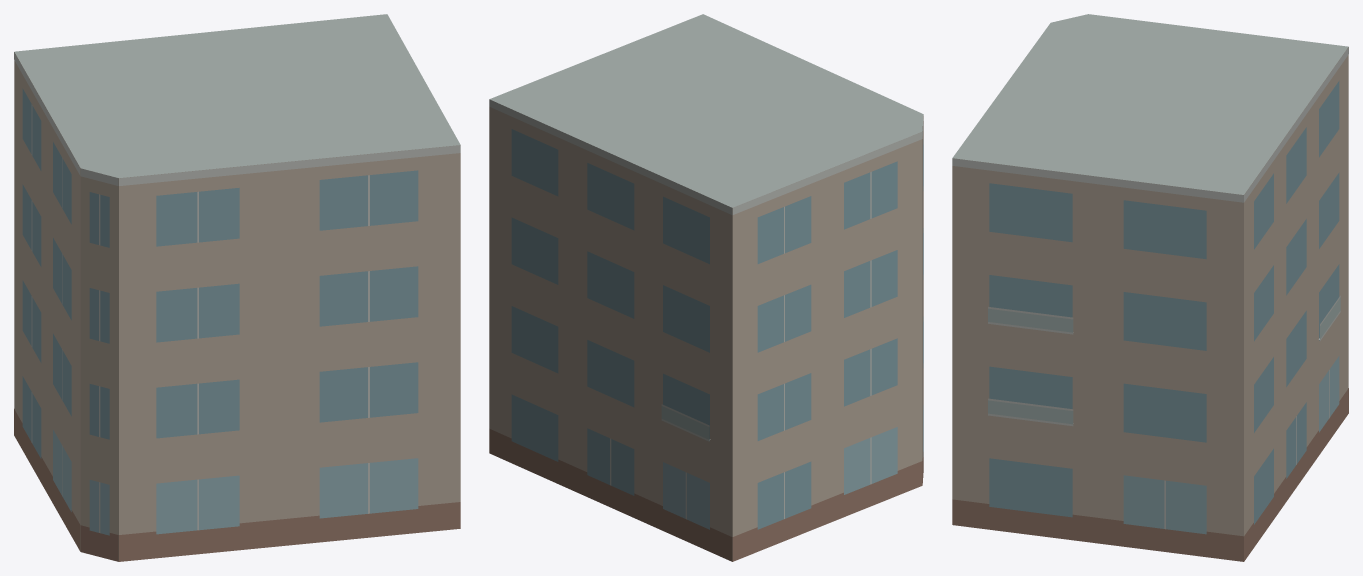
Rendered from survey-upis-32532447.glb.
3 renders of one model, left to right at view 1: azimuth 30°, elevation 25°; view 2: azimuth 150°, elevation 25°; view 3: azimuth 270°, elevation 25°, orthographic. The views are drawn at different scales.
Visible parts, largest first — view 1: survey-upis-32532447.tmp; view 2: survey-upis-32532447.tmp; view 3: survey-upis-32532447.tmp.
Boxes of the visible parts, x1,y1,x2,y2 form: survey-upis-32532447.tmp: [14, 14, 460, 561]; survey-upis-32532447.tmp: [489, 14, 923, 561]; survey-upis-32532447.tmp: [952, 14, 1348, 561].
Bounding box in the file's own units: 12.4 × 11.7 × 11.47.
